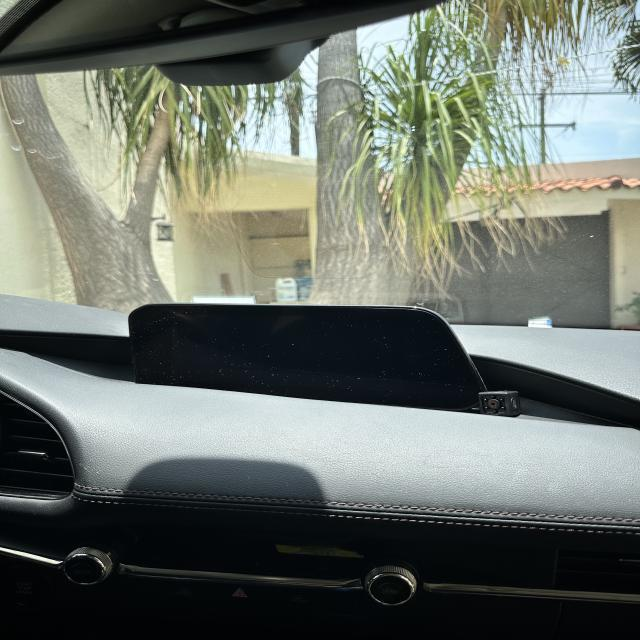hidden camera: (488, 400, 499, 409)
